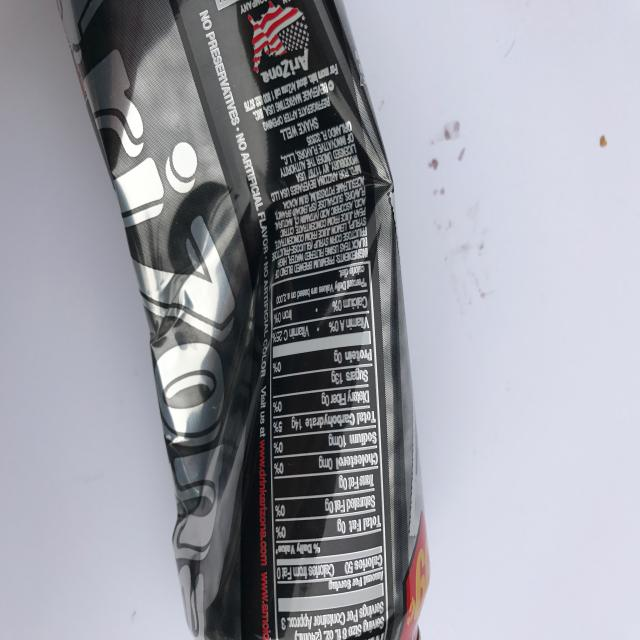Metal: (59, 1, 438, 640)
